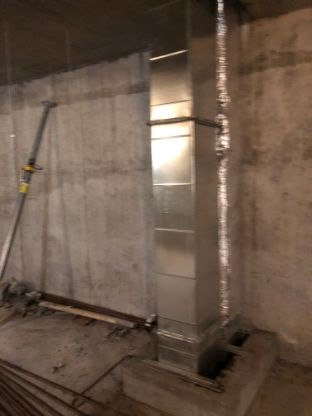Duct: (142, 1, 246, 385)
